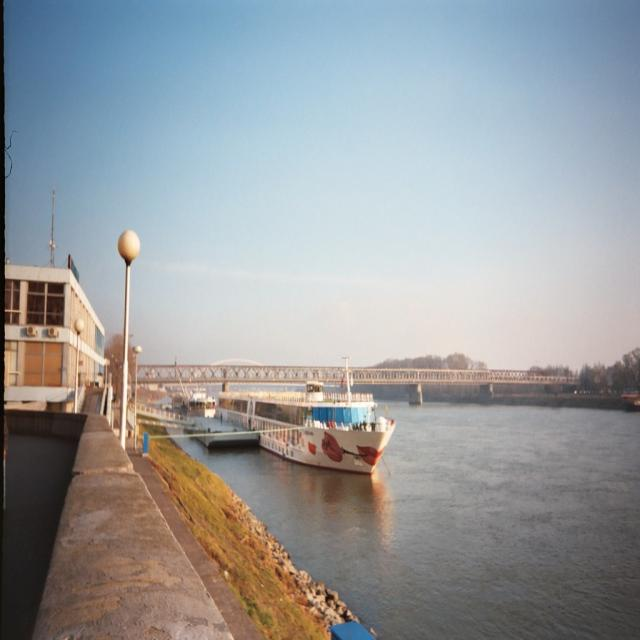Boat: (256, 394, 409, 476), (188, 385, 216, 418), (159, 398, 173, 414)
